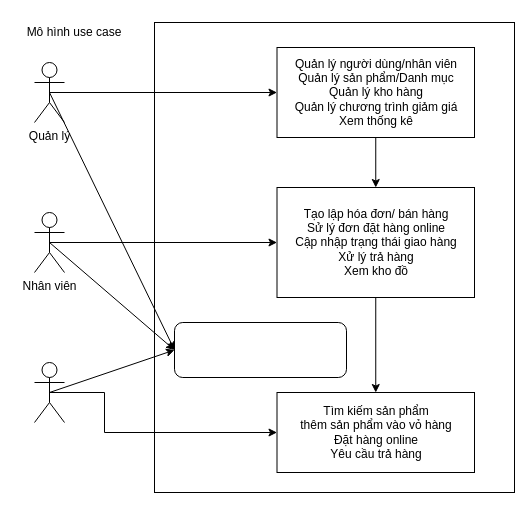
The diagram is 532 pixels wide and 510 high, and some of its shapes have lost their labels. Here are the shapes that lost their labels. From the top down, the centre of each, then its label:
At pixel 260 350: "Đăng nhập/đăng ký Quản lý tài khoản cá nhân".
At pixel 49 392: "Khách hàng".
